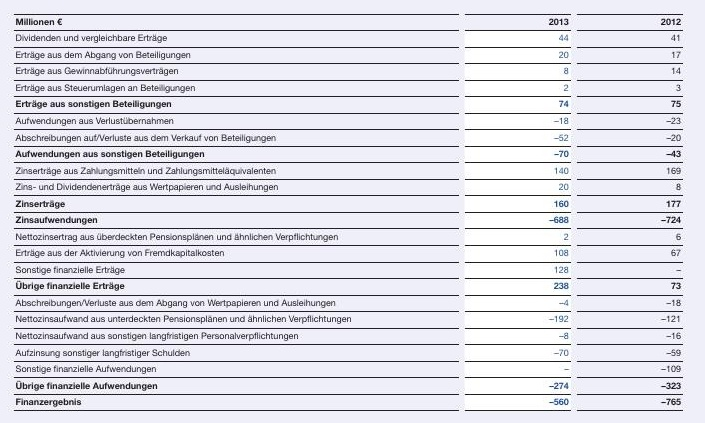table: (0, 0, 705, 423)
